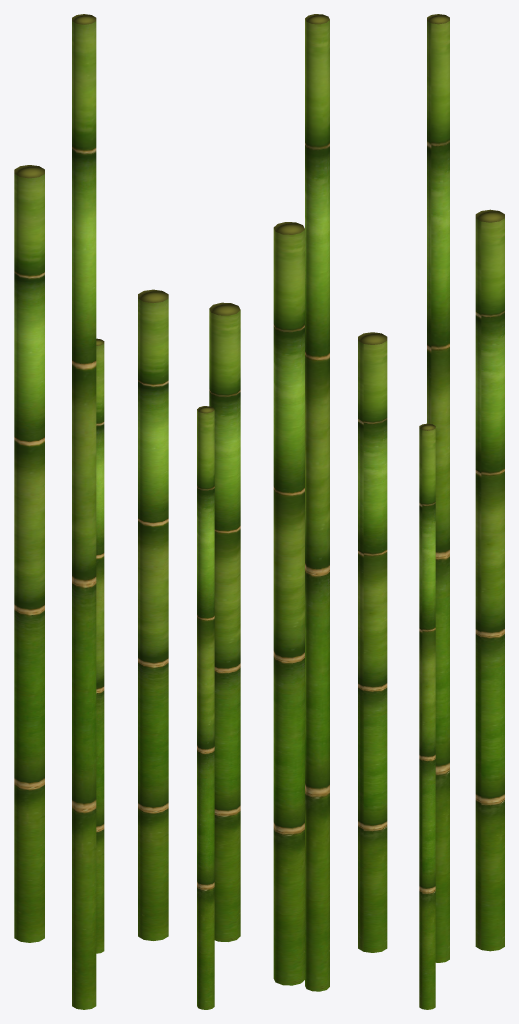
File: VEG0410023.fbx
3 views of the same model, side by side, from view 1: azimuth 90°, elevation 25°; view 2: azimuth 210°, elevation 25°; view 3: azimuth 270°, elevation 25° (orthographic). The views are drawn at different scales.
Parts seen in each view (by area): view 1: smVEG0410023; view 2: smVEG0410023; view 3: smVEG0410023.
Part boxes in pixels (x1,y1,x2,y2): smVEG0410023: (14,14,168,1009); smVEG0410023: (197,14,329,1009); smVEG0410023: (358,14,504,1009).
Bounding box in the file's own units: 73.3 × 544 × 77.16.
Materials: 1 (1 with a texture image).
